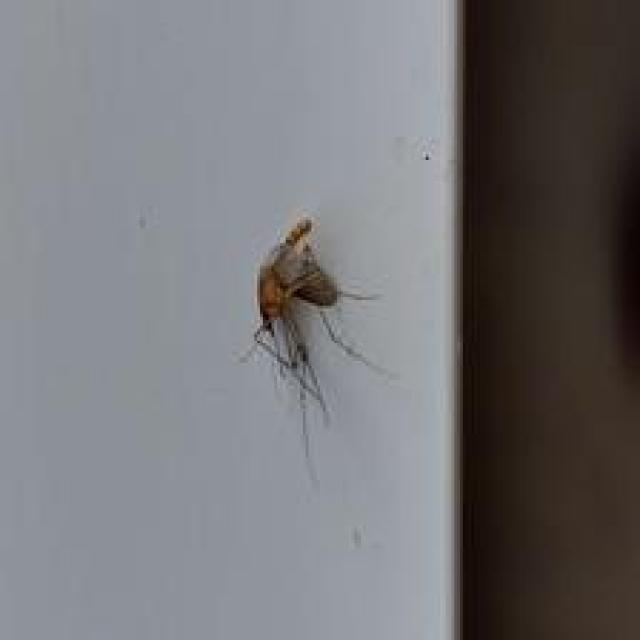Culex: (238, 214, 393, 486)
